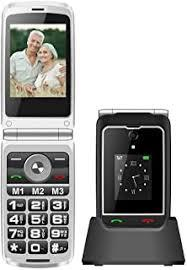Smartphone: (1, 4, 69, 263), (100, 110, 167, 226)
